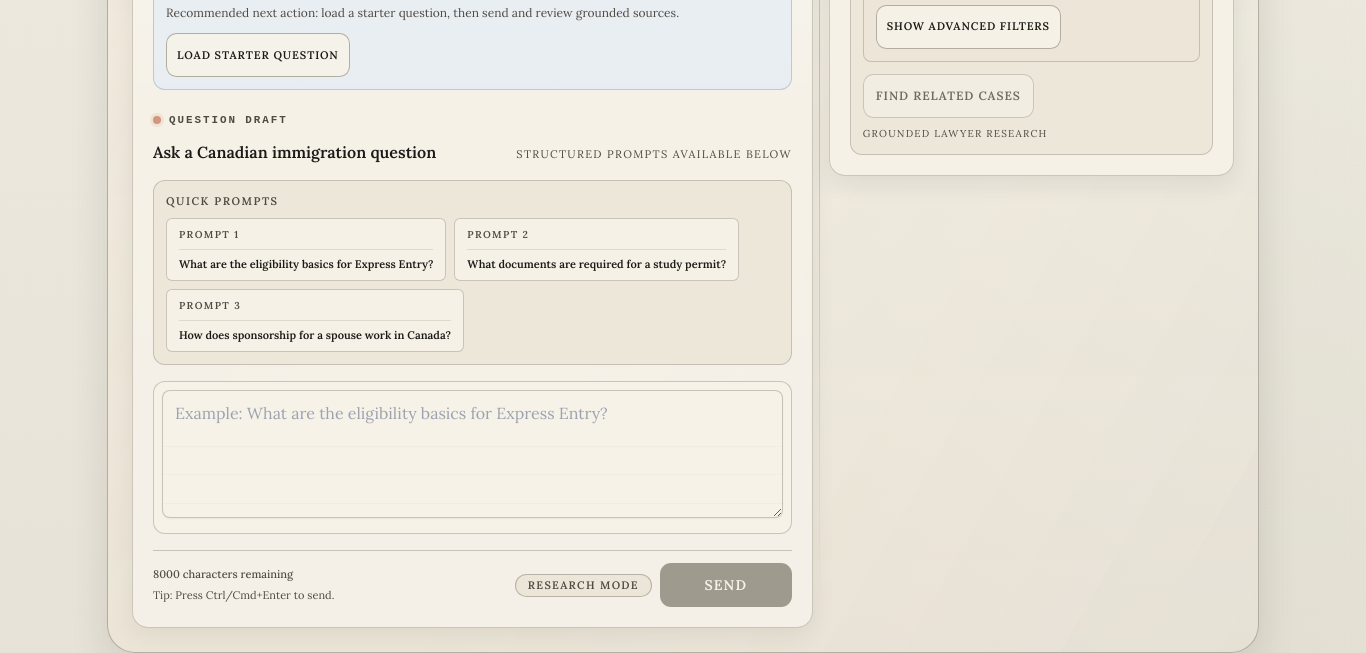
Test: chat shell contract behavior › renders source and docket metadata badges when case metadata is present
The width and height of the screenshot is (1366, 653).
(page scrolled)
Type "Find Federal Court procedural fairness precedents" into the text box labelled "Ask a Canadian immigration question".
click(472, 454); type("Find Federal Court procedural fairness precedents")  # box [162, 390, 783, 518]
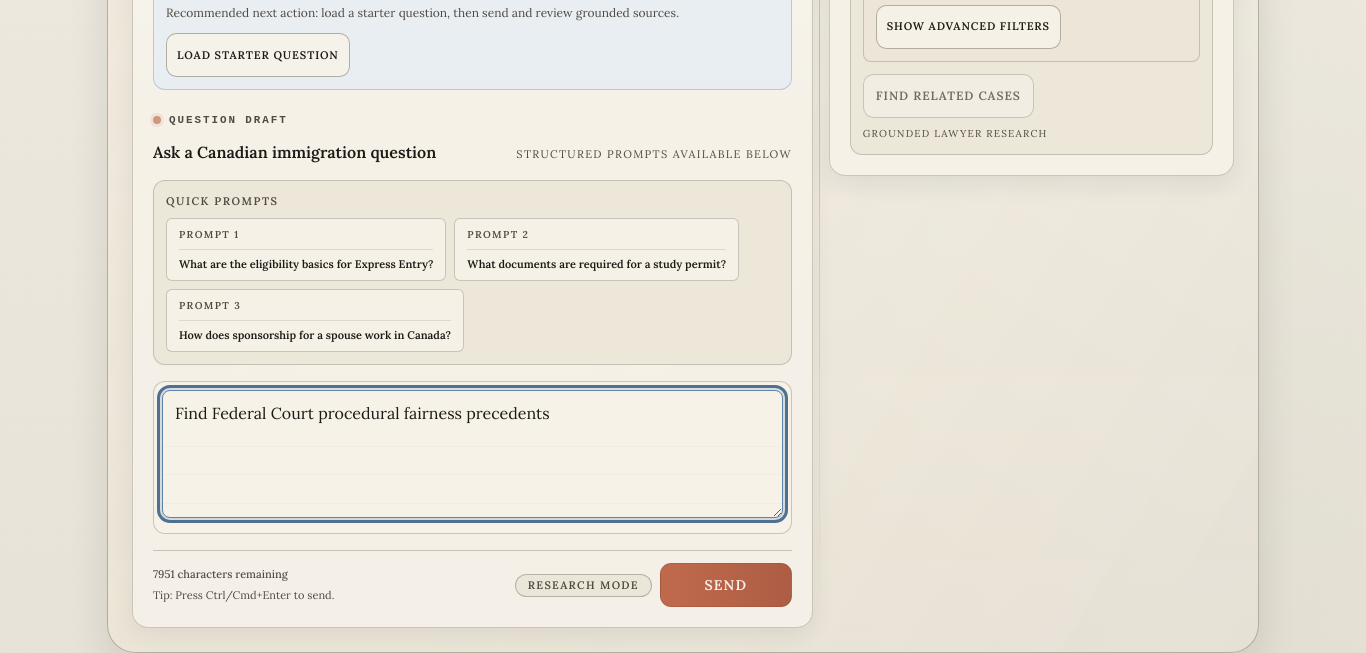
Click the button "Send".
click(726, 585)  # box [660, 563, 792, 607]
(page scrolled)
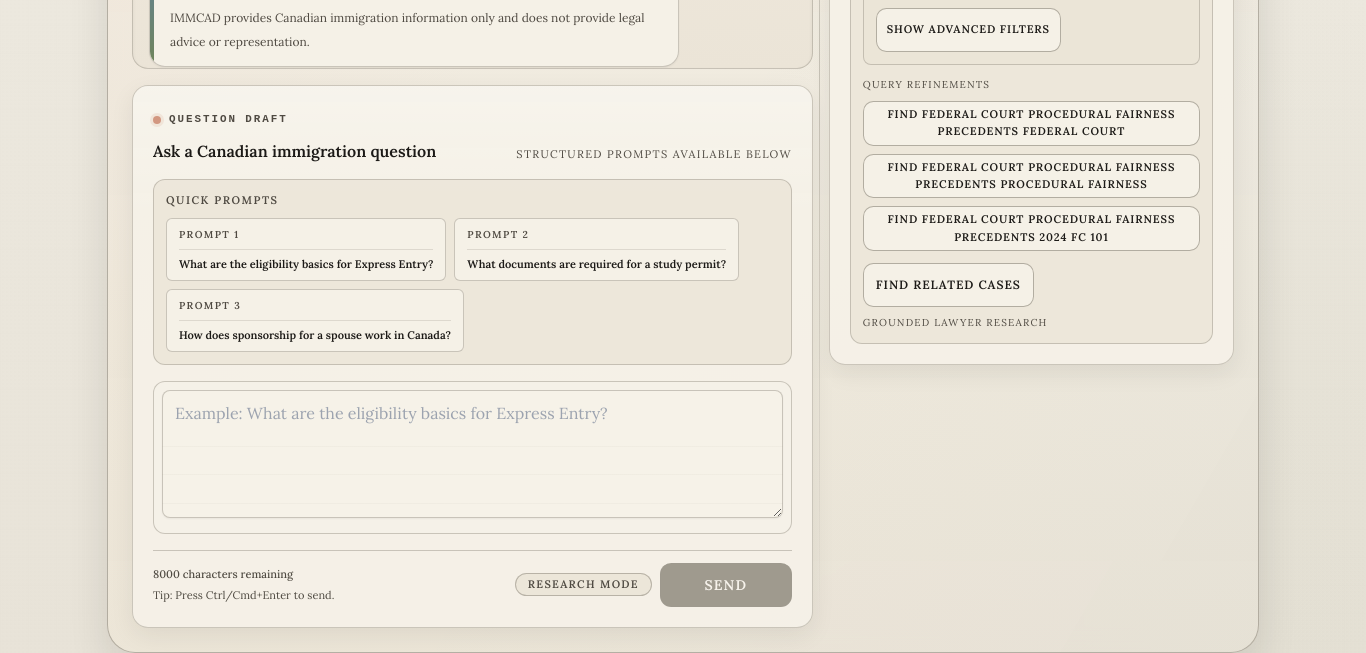
Click the button "Find related cases".
click(948, 285)  # box [863, 263, 1034, 307]
(page scrolled)
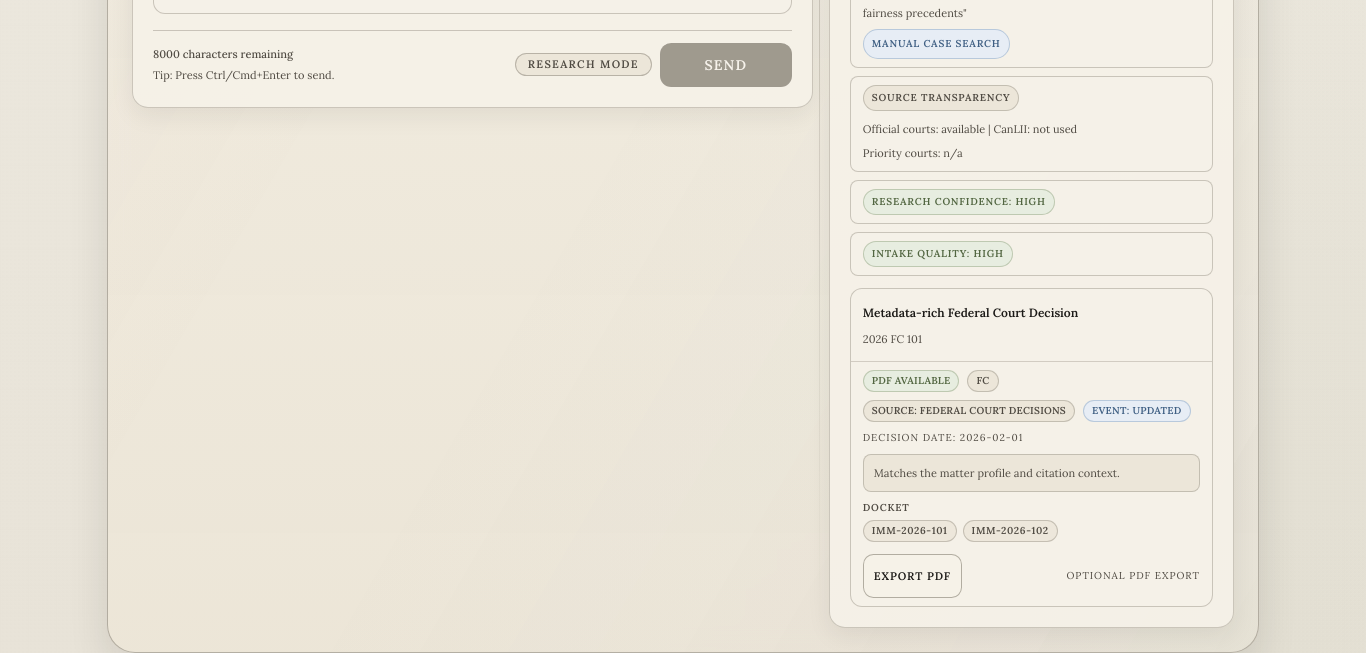
Expected: the text "Source: Federal Court Decisions" is shown, [863, 400, 1075, 422]
Expected: the text "Event: Updated" is shown, [1083, 400, 1191, 422]
Expected: the text "IMM-2026-101" is shown, [863, 520, 957, 542]
